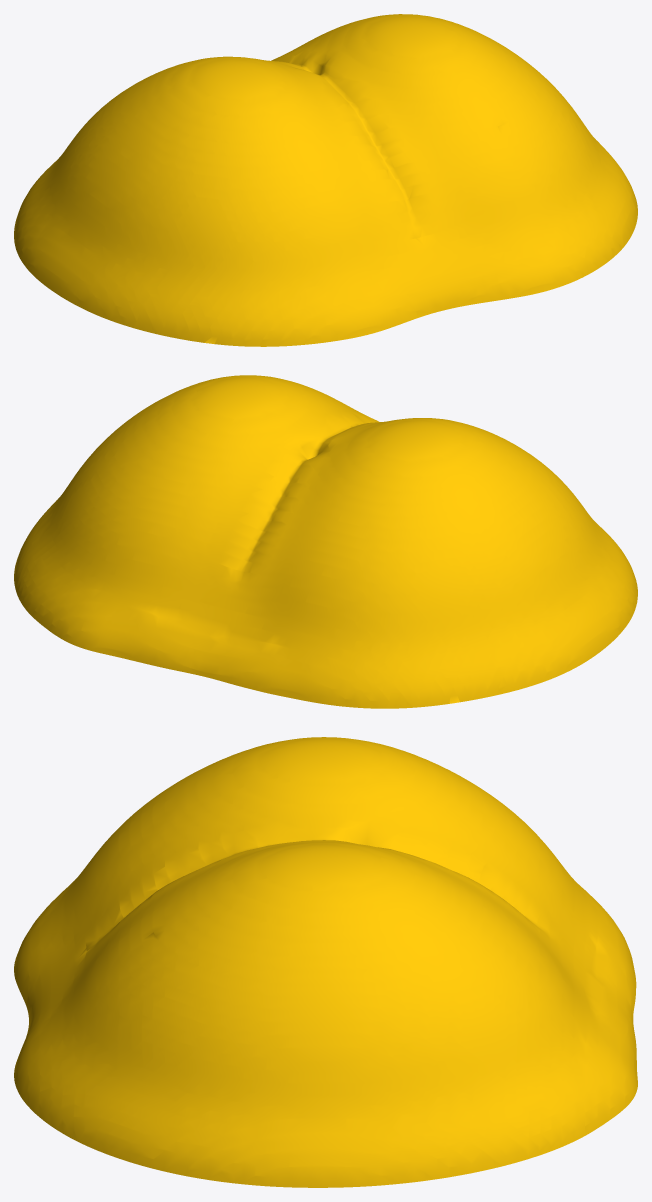
The model's file is ass.gltf.
3 renders of one model, top to bottom at view 1: azimuth 30°, elevation 25°; view 2: azimuth 150°, elevation 25°; view 3: azimuth 270°, elevation 25°, orthographic. The views are drawn at different scales.
Visible parts, largest first — view 1: Metaball.1; view 2: Metaball.1; view 3: Metaball.1.
Part boxes in pixels (x1,y1,x2,y2): Metaball.1: [14, 14, 637, 346]; Metaball.1: [14, 375, 637, 708]; Metaball.1: [14, 737, 637, 1187].
Bounding box in the file's own units: 398 × 119 × 315.
